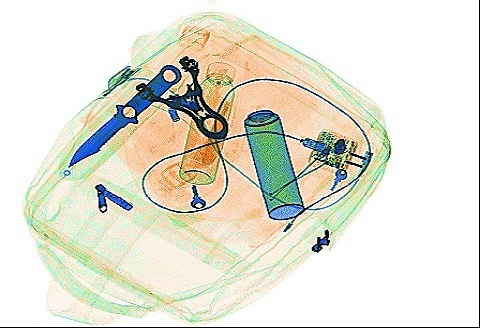knife: (67, 63, 183, 167)
pressure: (240, 94, 304, 220), (172, 56, 233, 184)
slingshot: (134, 55, 226, 142)
